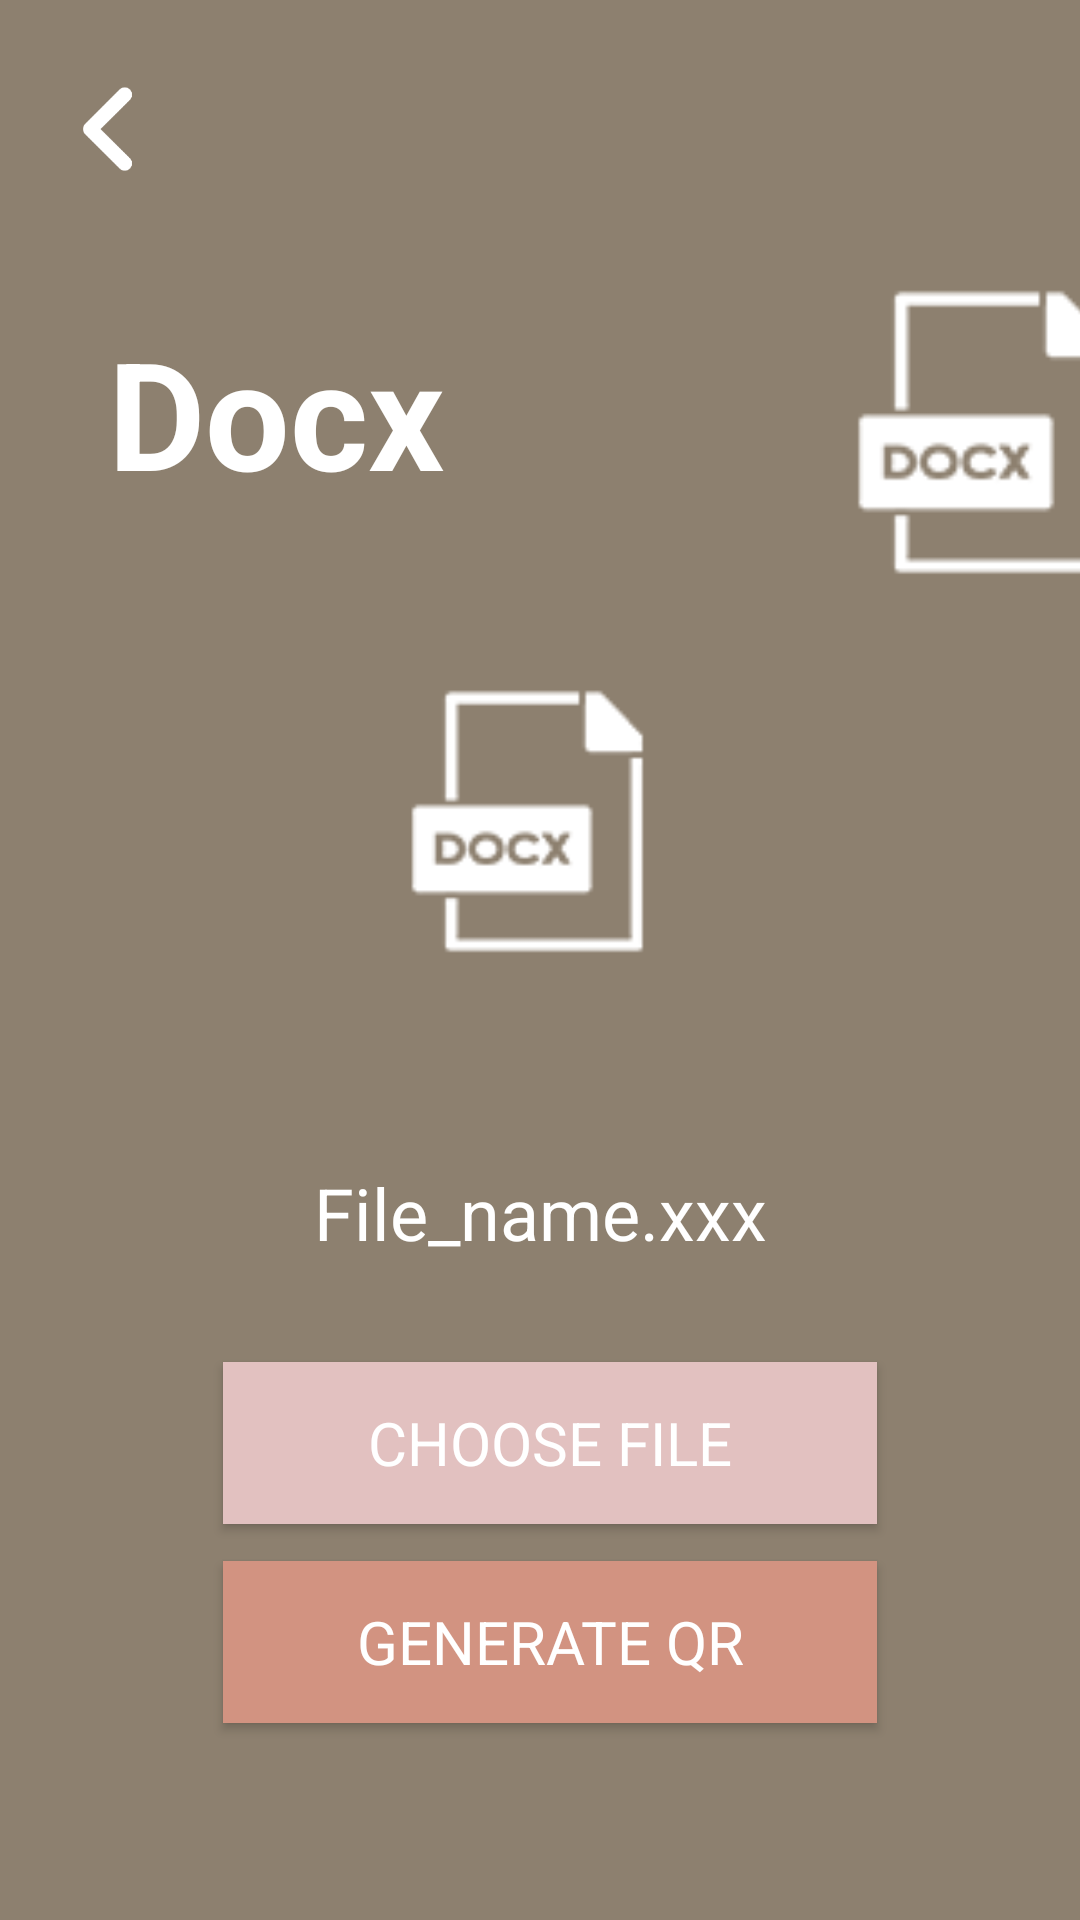

Screen size 1080 × 1920. Icon name, then its box in pixels as [left=x1, top=y1, right=x2, bottom=y2]:
back: [left=83, top=87, right=132, bottom=171]
